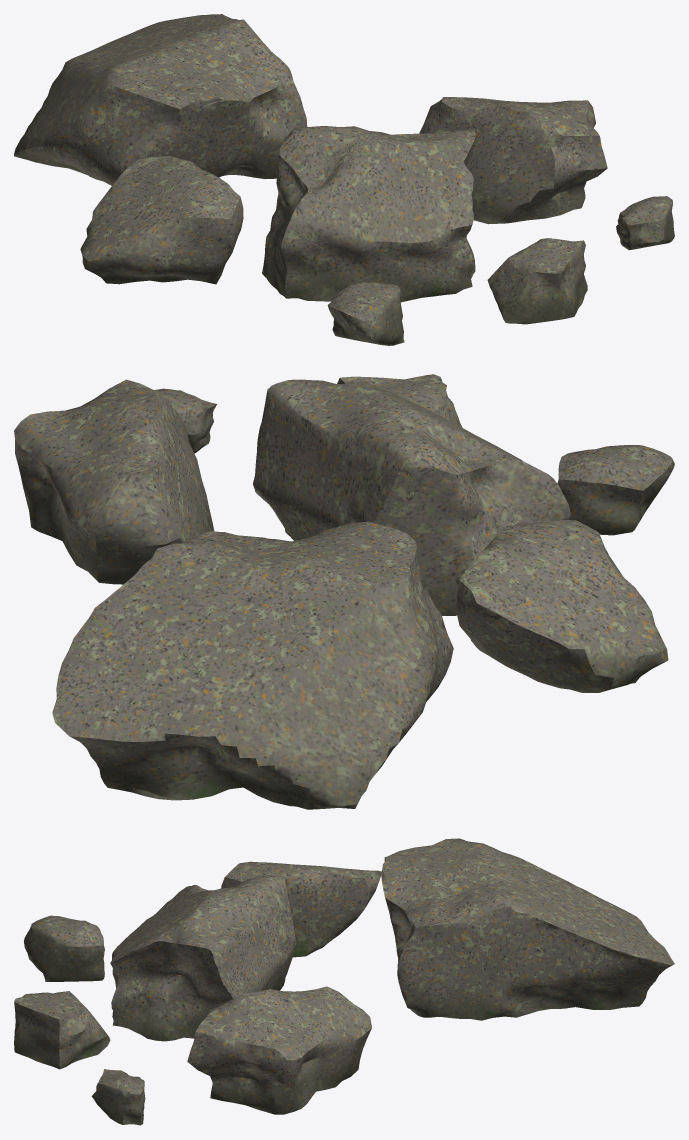
File: stones_loose.glb
The picture shows the model from 3 angles, top to bottom: view 1: azimuth 30°, elevation 25°; view 2: azimuth 150°, elevation 25°; view 3: azimuth 270°, elevation 25°; orthographic projection. The views are drawn at different scales.
Visible parts, largest first — view 1: stones_loose; view 2: stones_loose; view 3: stones_loose.
Part boxes in pixels (box(x1,y1,x2,y2)): stones_loose: box(14, 14, 674, 345); stones_loose: box(14, 374, 674, 809); stones_loose: box(14, 838, 674, 1125).
Size of the model in its own units: 1.22 by 0.29 by 1.48.
1 material, 1 textured.
